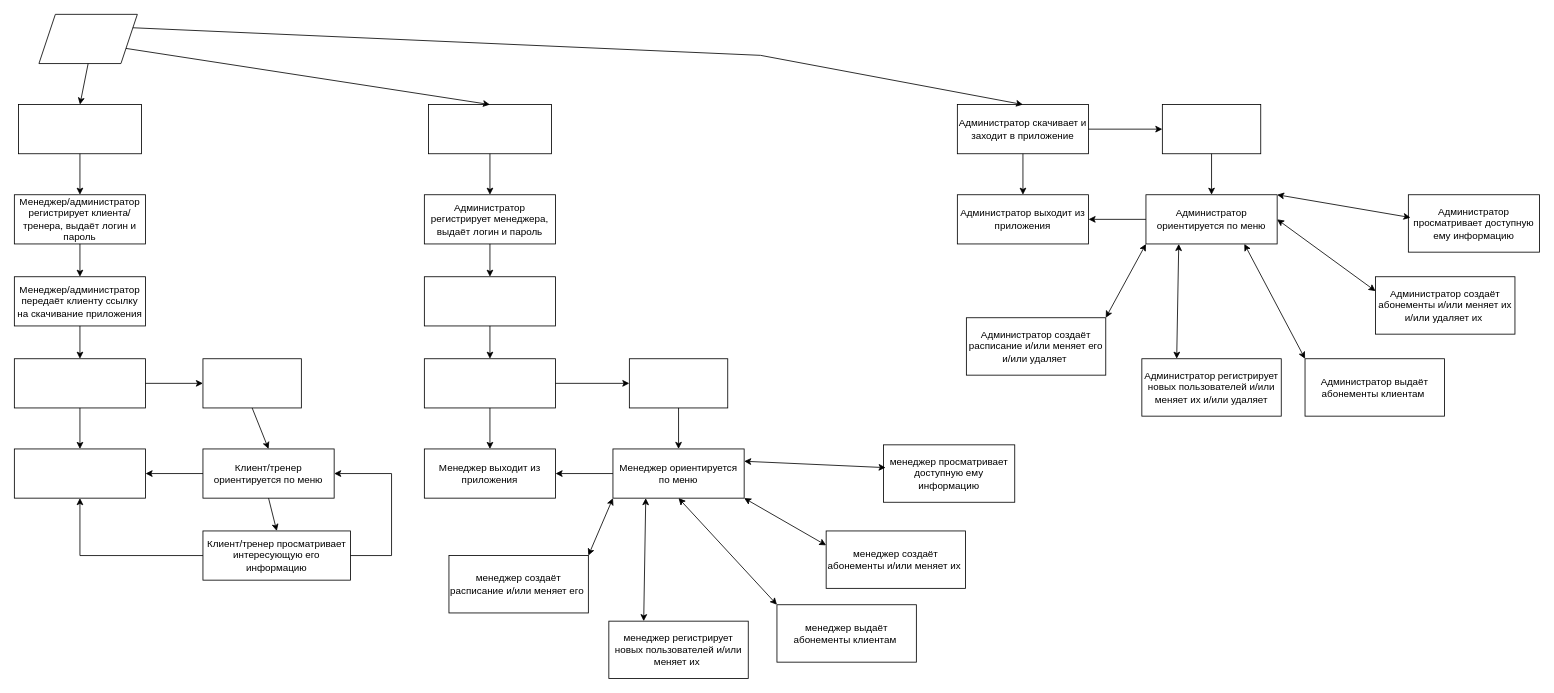
Image size: 1554x693. Some labels were removed from this diagram. The shapes that lost their labels are listed below. From the top down, each one's centre as x and y in pixels, then its label:
At pixel 87 39: "Начало".
At pixel 79 129: "Клиент/тренер подходит на ресепшн клуба".
At pixel 489 129: "Менеджер подходит на ресепшн клуба".
At pixel 1211 129: "Администратор авторизуется".
At pixel 490 301: "Администратор передаёт менеджеру ссылку на скачивание приложения".
At pixel 80 383: "Клиент/тренер скачивает и заходит в приложение".
At pixel 251 383: "Клиент/тренер авторизуется".
At pixel 490 383: "Менеджер скачивает и заходит в приложение".
At pixel 678 383: "менеджер авторизуется".
At pixel 80 473: "Клиент/тренер выходит из приложения".
